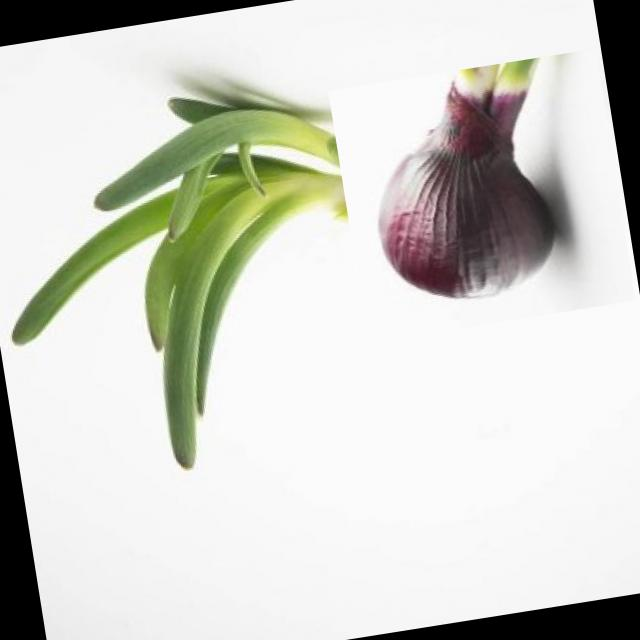Onion: (332, 45, 633, 346)
